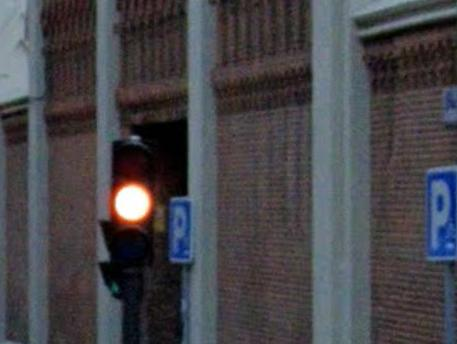yellow_light: (110, 139, 156, 268)
